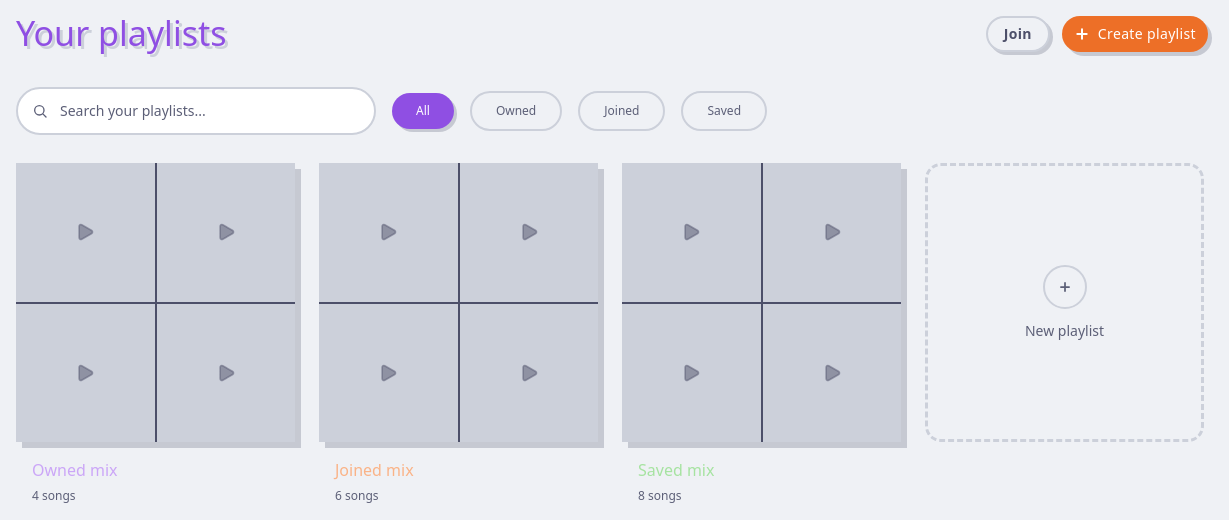
PlaylistsPage library tabs › lists joined playlists without a join tile on the Joined tab
Click the button "Joined" at point(622, 111), box [578, 91, 666, 131]
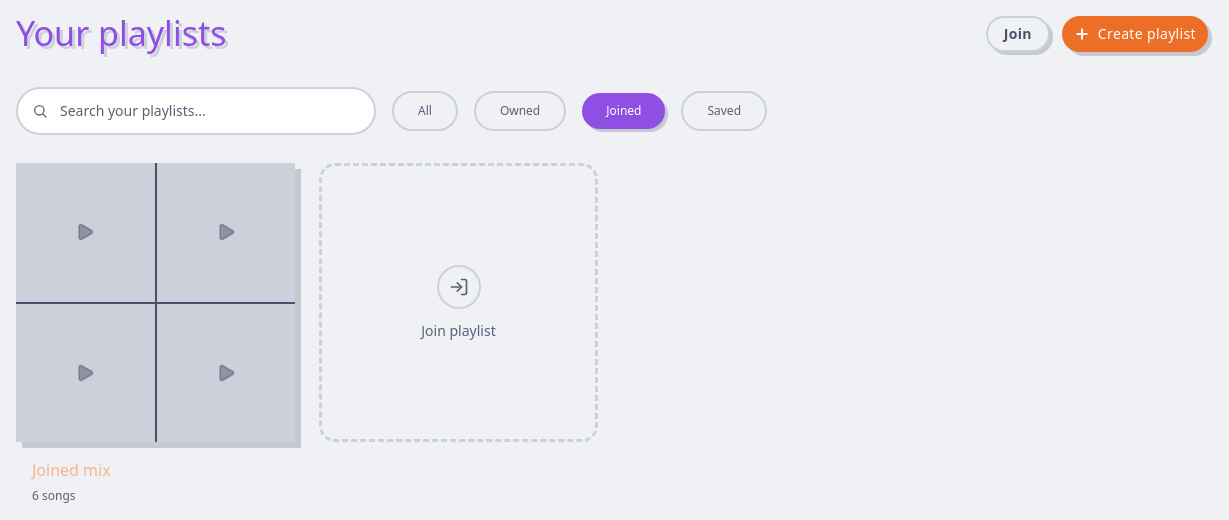
expect the text "Joined mix" is shown: met, box [32, 459, 111, 481]
expect the link "Owned mix" is gone: met
